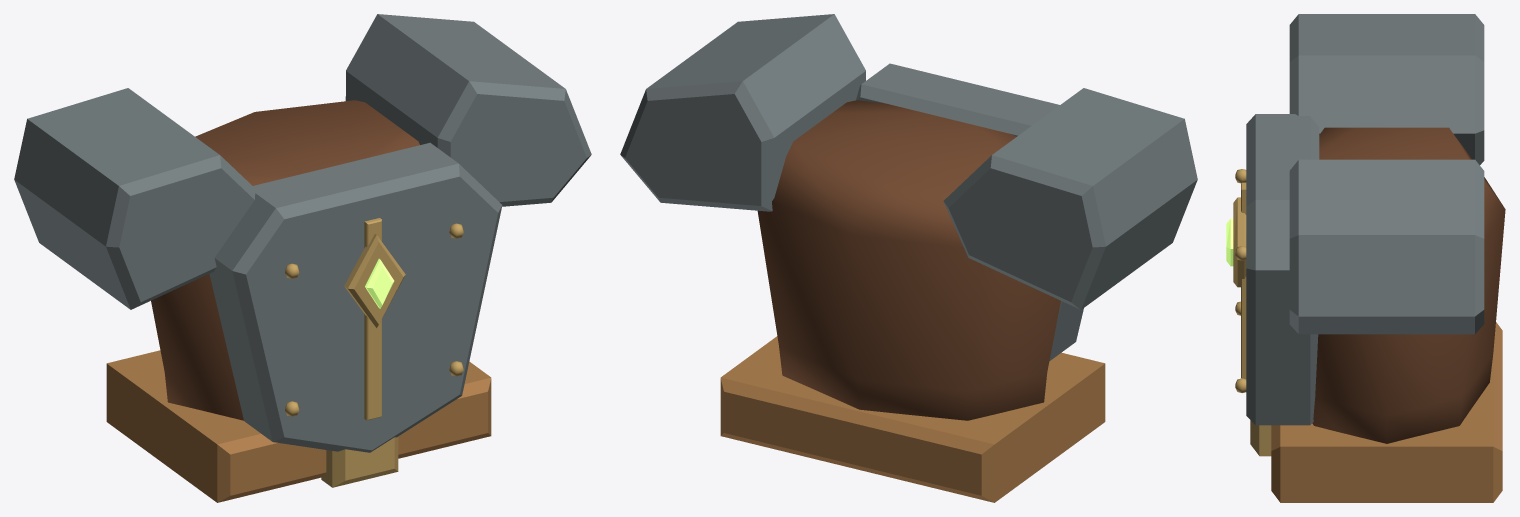
The model's file is traveler_cuirass.glb.
3 renders of one model, left to right at view 1: azimuth 30°, elevation 25°; view 2: azimuth 150°, elevation 25°; view 3: azimuth 270°, elevation 25°, orthographic. The views are drawn at different scales.
Parts seen in each view (by area): view 1: iron_60, iron_67, iron_70, leather_59, leatherLight_65, gold_66, gold_63, gold_61, rune_64; view 2: leather_59, iron_67, iron_70, leatherLight_65, iron_60; view 3: iron_70, leather_59, iron_67, leatherLight_65, iron_60, gold_63, gold_61, gold_66, rune_64.
Part boxes in pixels (box(x1,y1,x2,y2)): iron_60: box(209, 142, 502, 452); iron_67: box(14, 88, 257, 309); iron_70: box(345, 14, 591, 206); leather_59: box(151, 100, 419, 420); leatherLight_65: box(106, 350, 491, 502); gold_66: box(321, 437, 398, 487); gold_63: box(344, 234, 405, 328); gold_61: box(364, 218, 381, 420); rune_64: box(365, 258, 394, 308); leather_59: box(757, 100, 1060, 420); iron_67: box(943, 88, 1197, 309); iron_70: box(620, 14, 865, 211); leatherLight_65: box(720, 336, 1105, 502); iron_60: box(856, 63, 1083, 361); iron_70: box(1289, 159, 1484, 334); leather_59: box(1312, 127, 1505, 443); iron_67: box(1289, 14, 1484, 164); leatherLight_65: box(1271, 322, 1502, 502); iron_60: box(1246, 114, 1319, 425); gold_63: box(1233, 197, 1246, 287); gold_61: box(1241, 182, 1246, 378); gold_66: box(1250, 420, 1271, 456); rune_64: box(1226, 218, 1233, 266).
Size of the model in its own units: 0.8863 by 0.6159 by 0.4588.
